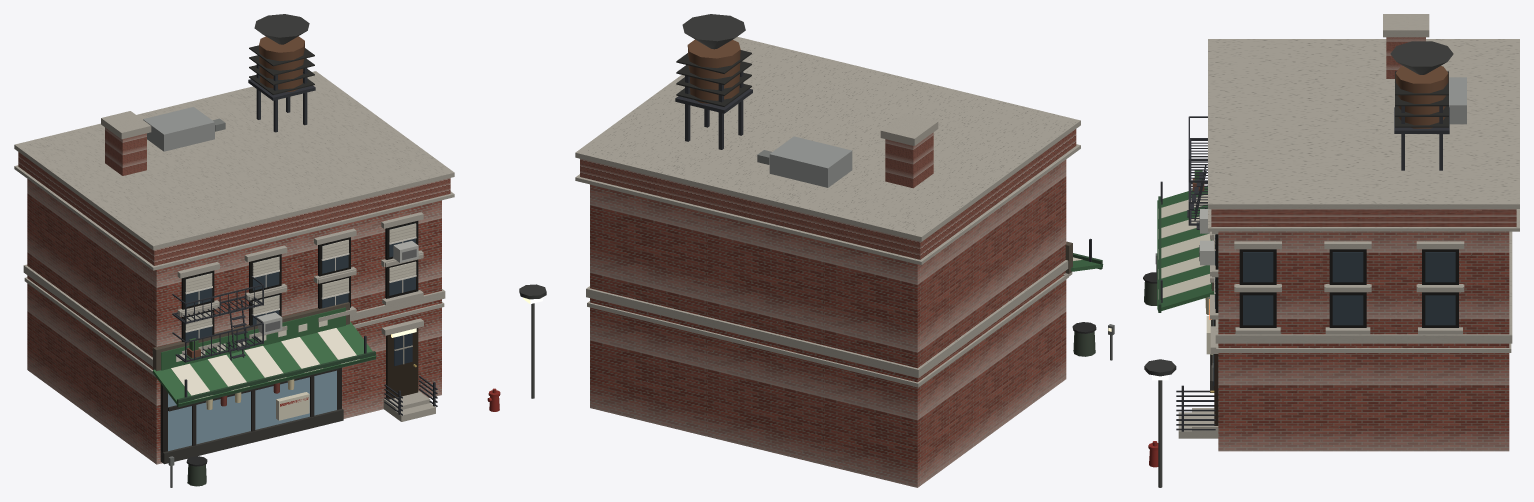
The model's file is jersey_porkstore.glb.
The picture shows the model from 3 angles, left to right: view 1: azimuth 30°, elevation 25°; view 2: azimuth 150°, elevation 25°; view 3: azimuth 270°, elevation 25°; orthographic projection. The views are drawn at different scales.
Size of the model in its own units: 18.5 by 15 by 14.25.
4 materials, 4 textured.
